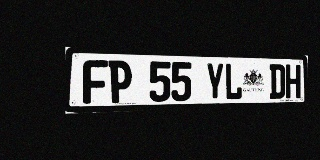5: (149, 61, 171, 102), (171, 62, 191, 101)
D: (269, 64, 285, 99)
F: (83, 60, 108, 104)
H: (286, 64, 300, 98)
L: (225, 63, 242, 100)
P: (108, 60, 132, 103)
Y: (205, 62, 224, 101)
